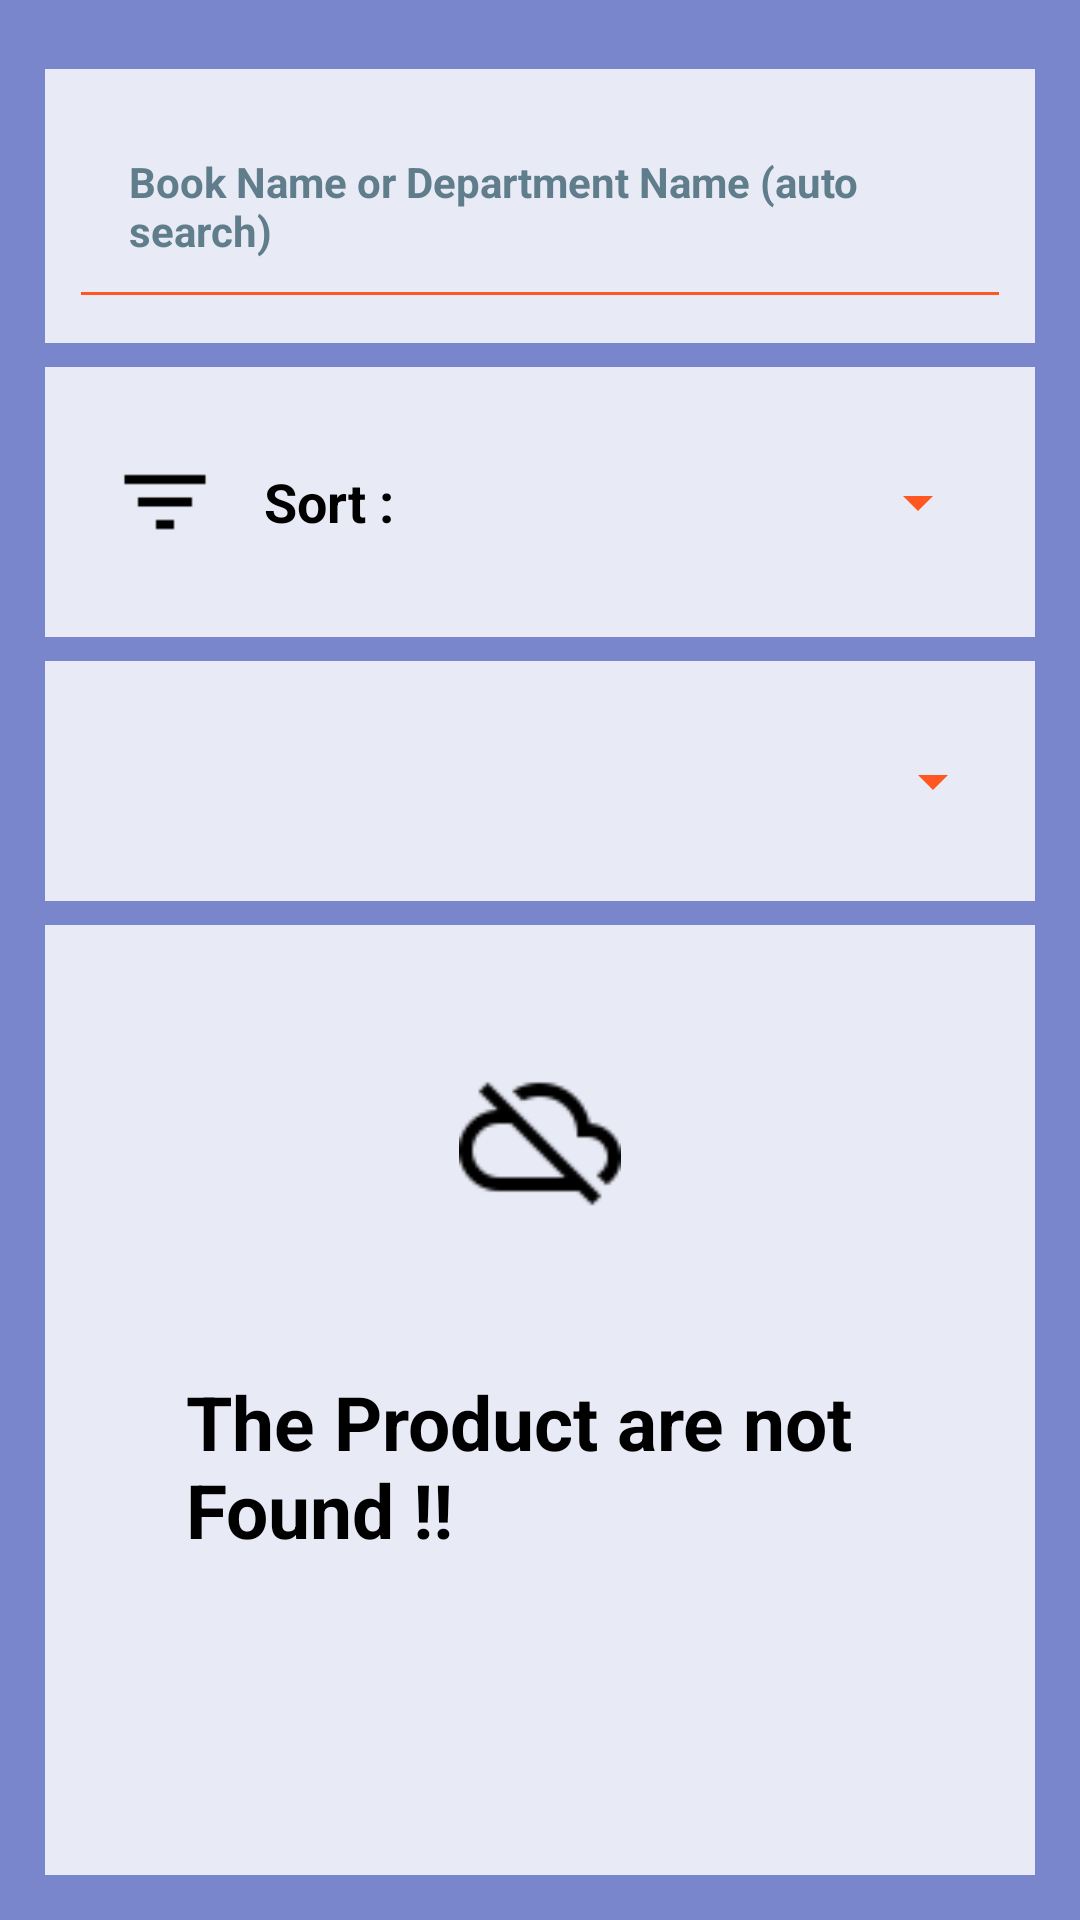

Locate icon controls on the screen. Image size 1080px×1920px, boxes as (x1, y1, x2, y2).
cloud off: (459, 1082, 621, 1206)
filter list: (124, 474, 206, 530)
